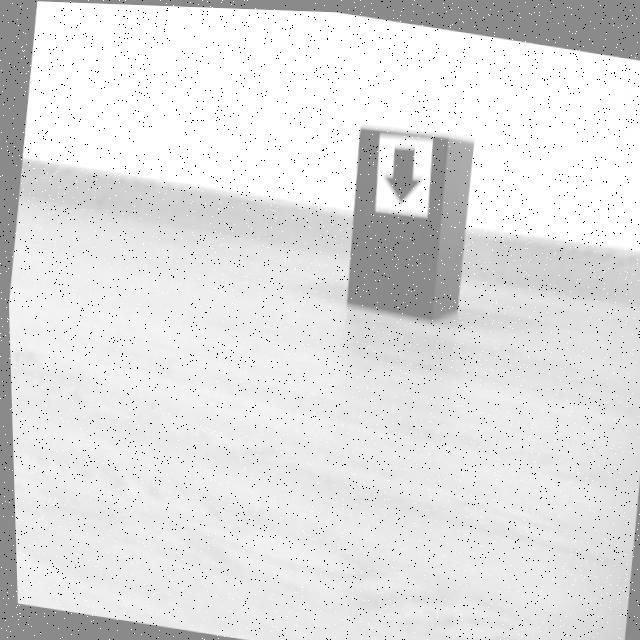DOWN: (385, 144, 418, 200)
